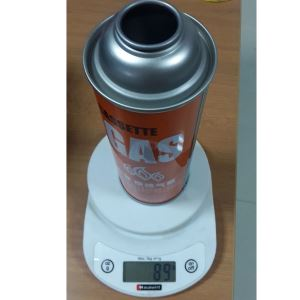Aerosol_cans: (79, 1, 220, 207)
